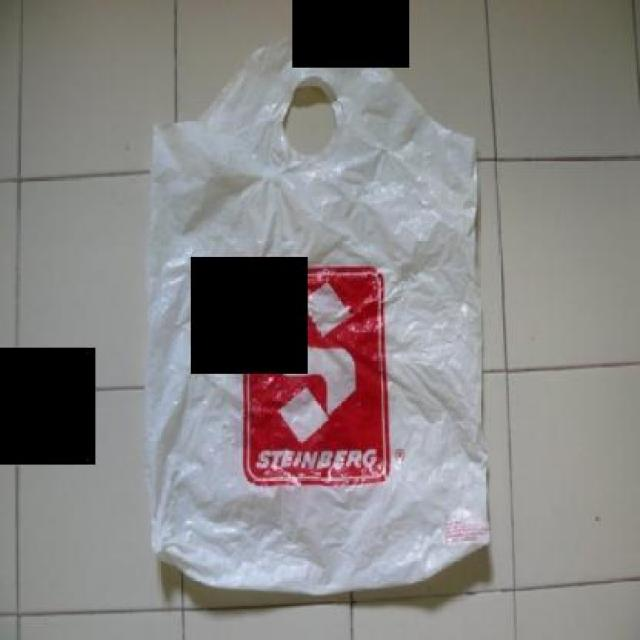plastic bag: (146, 32, 489, 596)
